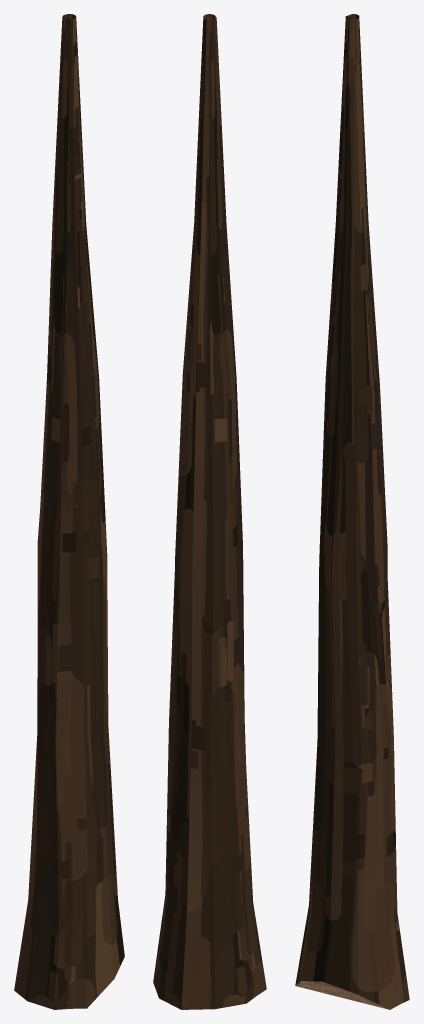
Rendered from adjusted FinalTree.fbx.
3 views of the same model, side by side, from view 1: azimuth 90°, elevation 25°; view 2: azimuth 150°, elevation 25°; view 3: azimuth 330°, elevation 25° (orthographic).
Visible parts, largest first — view 1: trunkTop; view 2: trunkTop; view 3: trunkTop.
Part boxes in pixels (x1,y1,x2,y2): trunkTop: (14, 14, 124, 1009); trunkTop: (153, 14, 266, 1009); trunkTop: (295, 14, 409, 1009).
Bounding box in the file's own units: 43.19 × 419 × 43.16.
